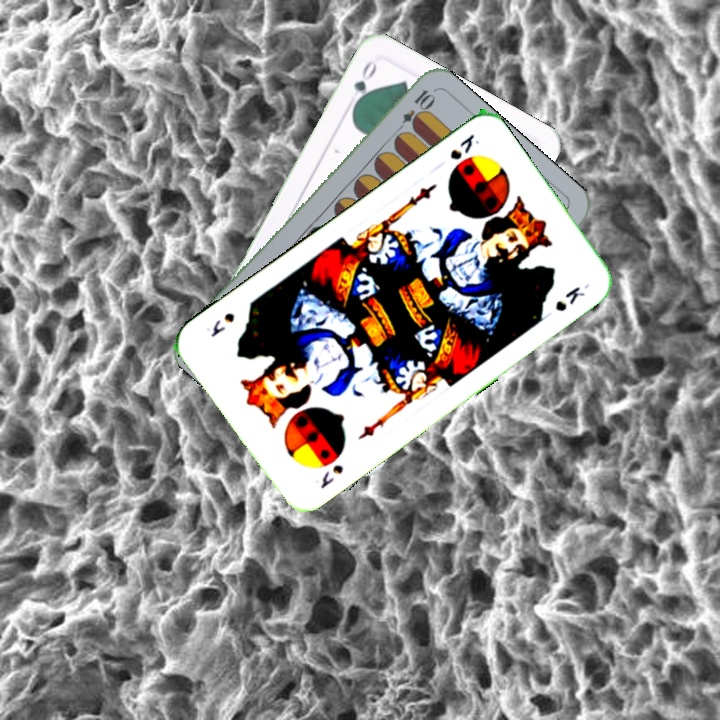E10: (391, 85, 437, 137)
GO: (349, 56, 380, 112)
SK: (446, 129, 482, 163), (311, 460, 346, 491)
